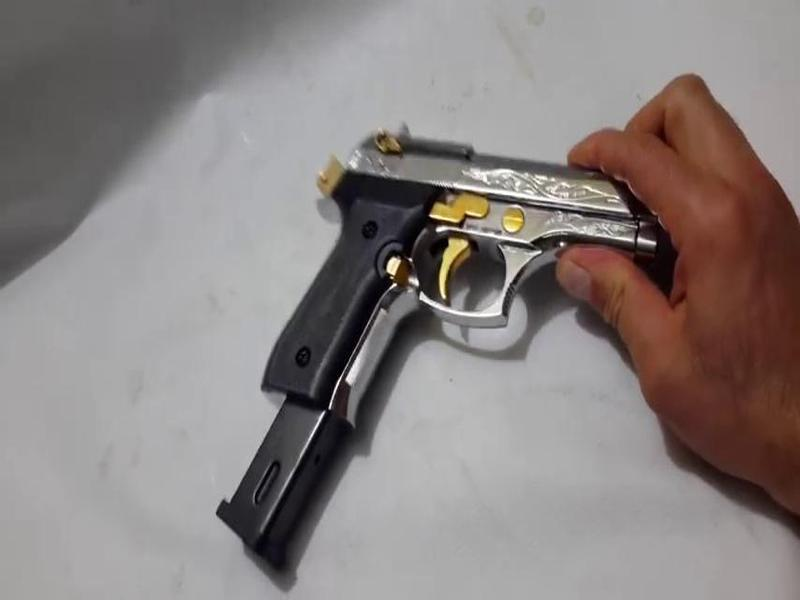Pistola: (277, 112, 701, 419)
